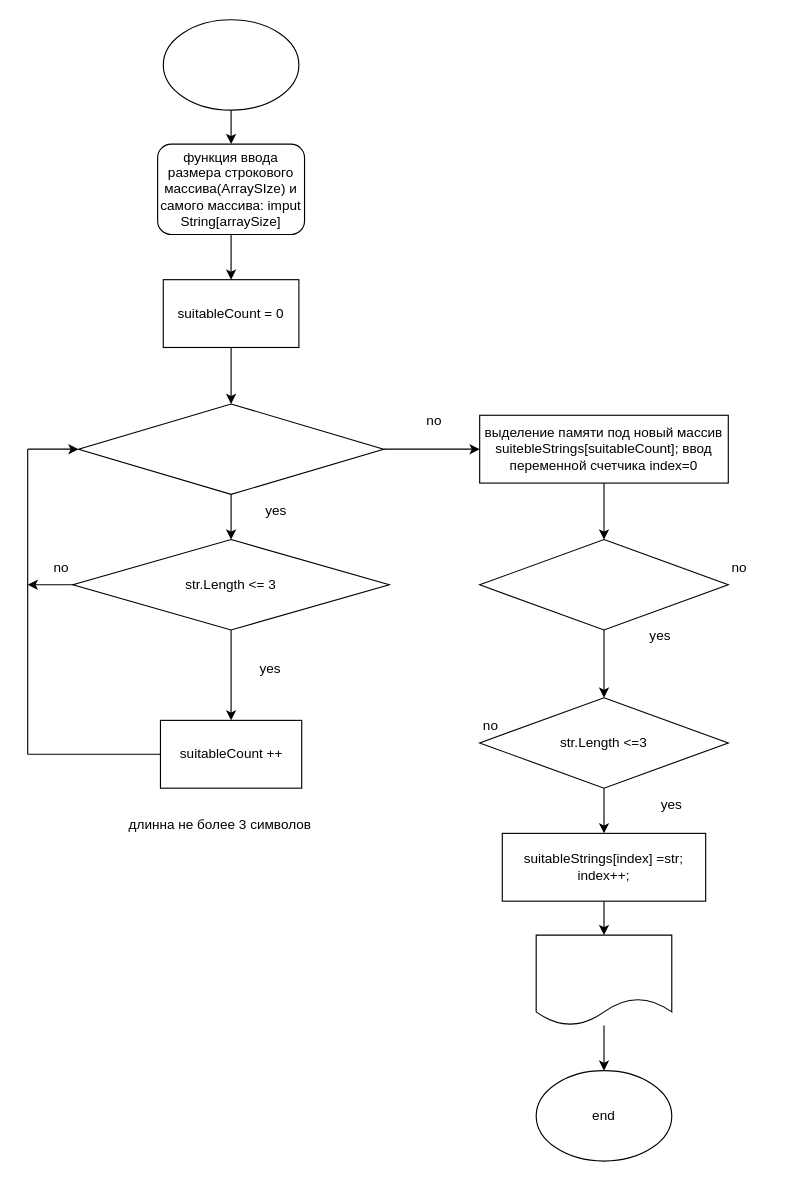
Image size: 793x1181. Some labels were removed from this diagram. The box of each missing label's shape, as (x1, y1, x2, y2) in pixels:
(Цикл Foreach) str in inputStrings: (479, 538, 728, 630)
(цикл foreachj) sit in inputStrings: (77, 403, 384, 494)
start: (162, 19, 299, 110)
функция вывода imputStrings[] suiyableStrings[]: (535, 934, 672, 1025)
